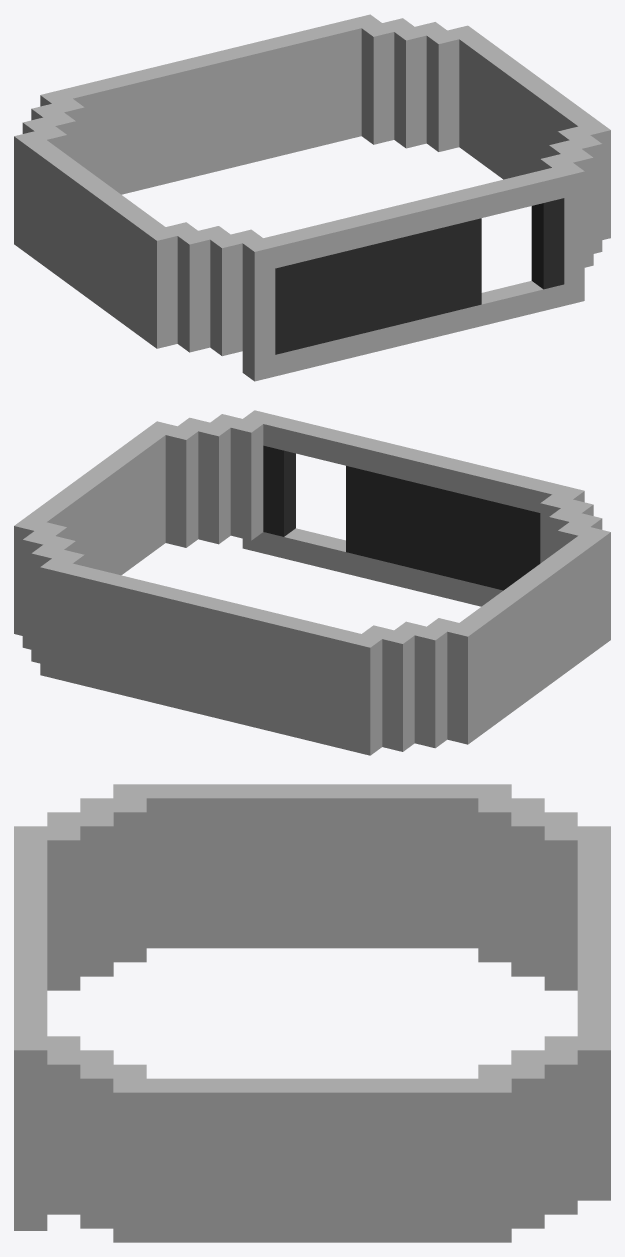
The picture shows the model from 3 angles, top to bottom: view 1: azimuth 30°, elevation 25°; view 2: azimuth 150°, elevation 25°; view 3: azimuth 270°, elevation 25°; orthographic projection. The views are drawn at different scales.
Visible parts, largest first — view 1: 66; view 2: 66; view 3: 66.
Part boxes in pixels (x1,y1,x2,y2): 66: [14, 14, 610, 381]; 66: [14, 410, 610, 755]; 66: [14, 784, 610, 1242].
Size of the model in its own units: 220 by 60 by 180.
Materials: 1 (1 with a texture image).
